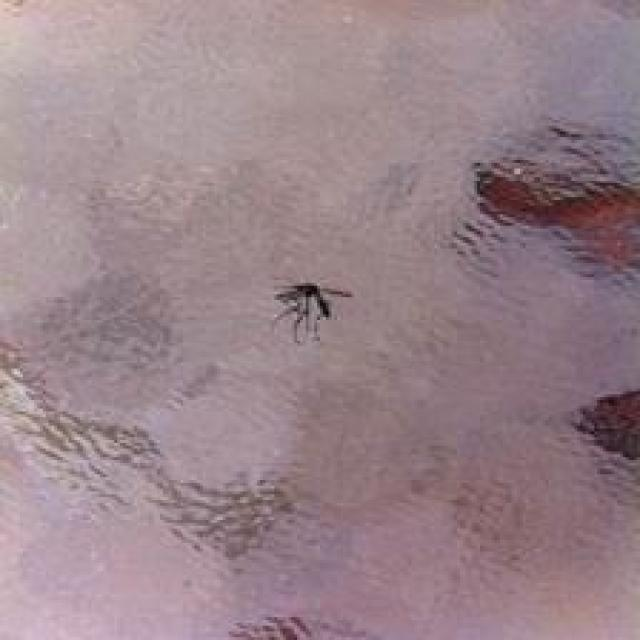Aedes albopictus: (270, 280, 353, 346)
